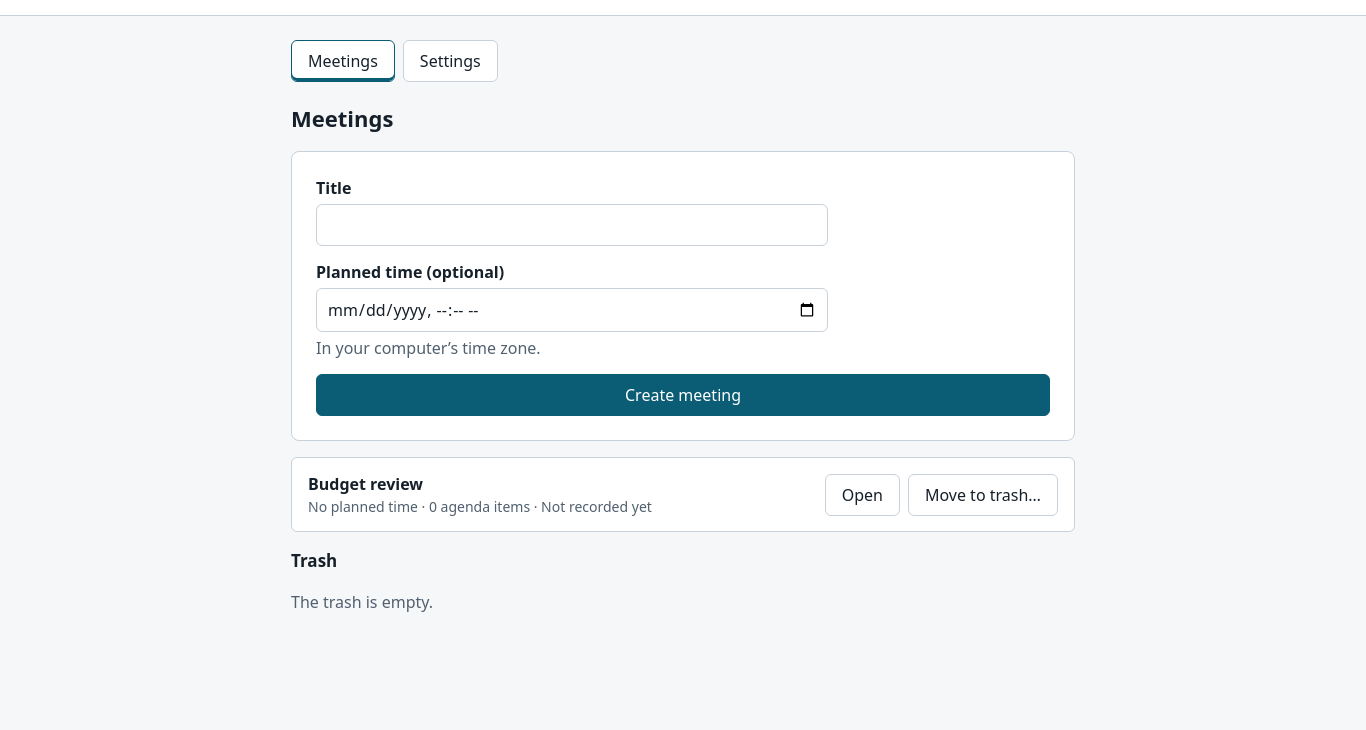
opening a meeting shows it, and leaving with unsaved text asks first
The image size is (1366, 730).
Step 1. Click the button with aria-label "Open Budget review" → (862, 494), box top-left (825, 474), bottom-right (900, 516)
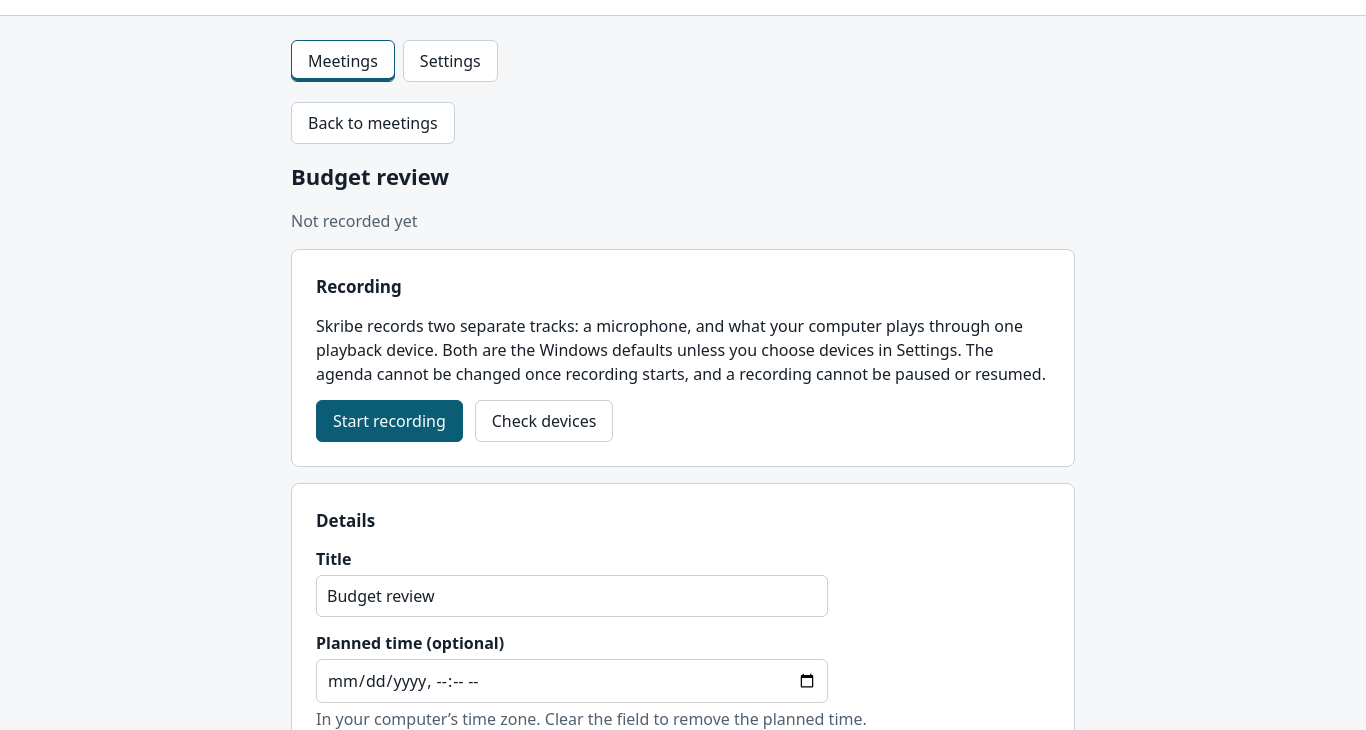
Result: the button "Start recording" is shown at top-left (316, 400), bottom-right (463, 442)
Step 2. Type " 2027" into the field labelled "Title" → (572, 596), box top-left (316, 575), bottom-right (828, 617)
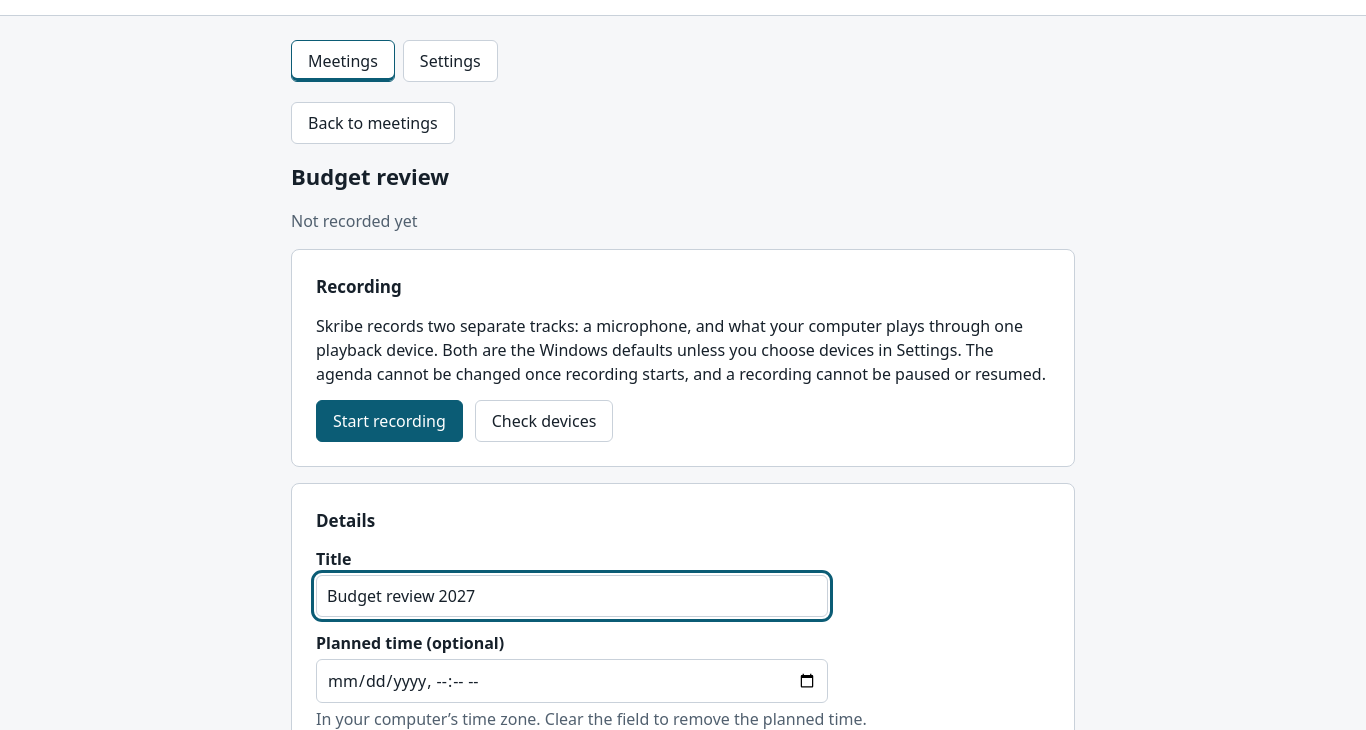
Step 3. Click the button "Back to meetings" → (373, 123), box top-left (291, 102), bottom-right (455, 144)
(page scrolled)
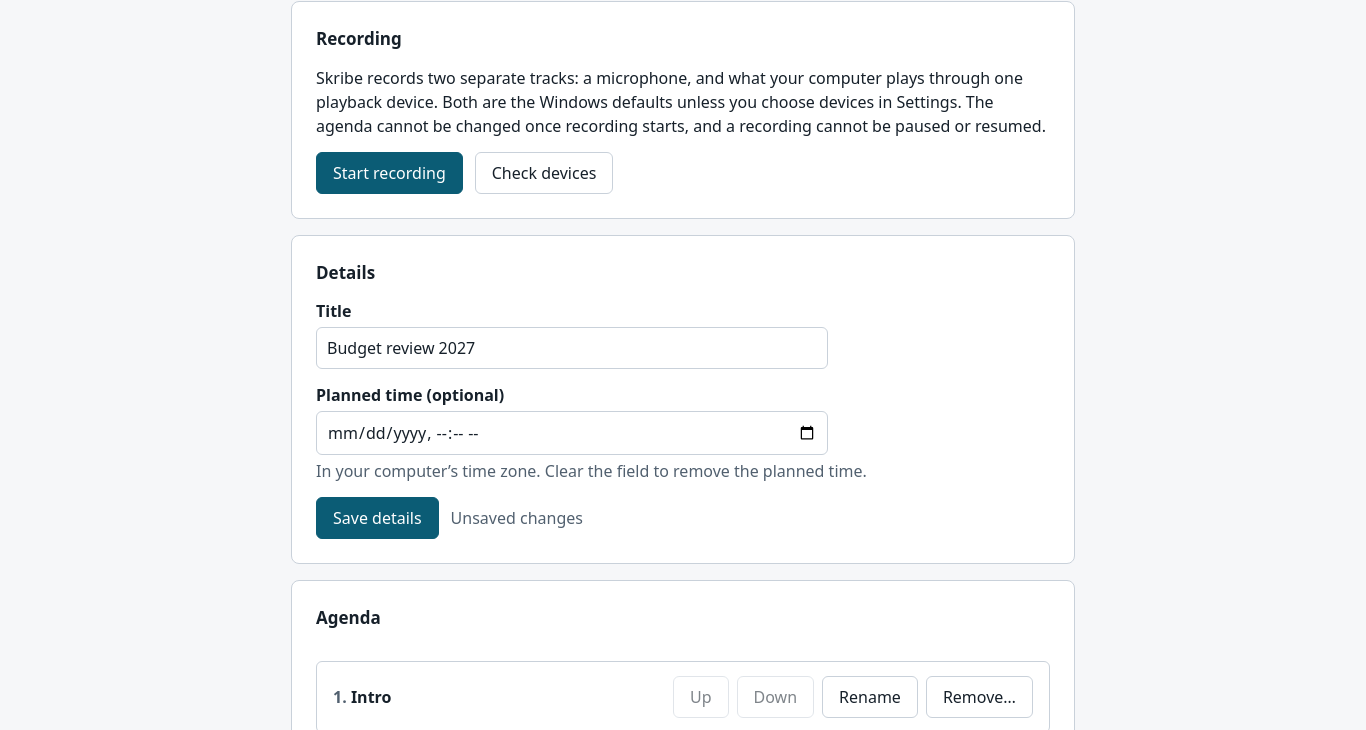
Result: the field labelled "Title" holds "Budget review 2027" at top-left (316, 327), bottom-right (828, 369)
Step 4. Press Enter
(page scrolled)
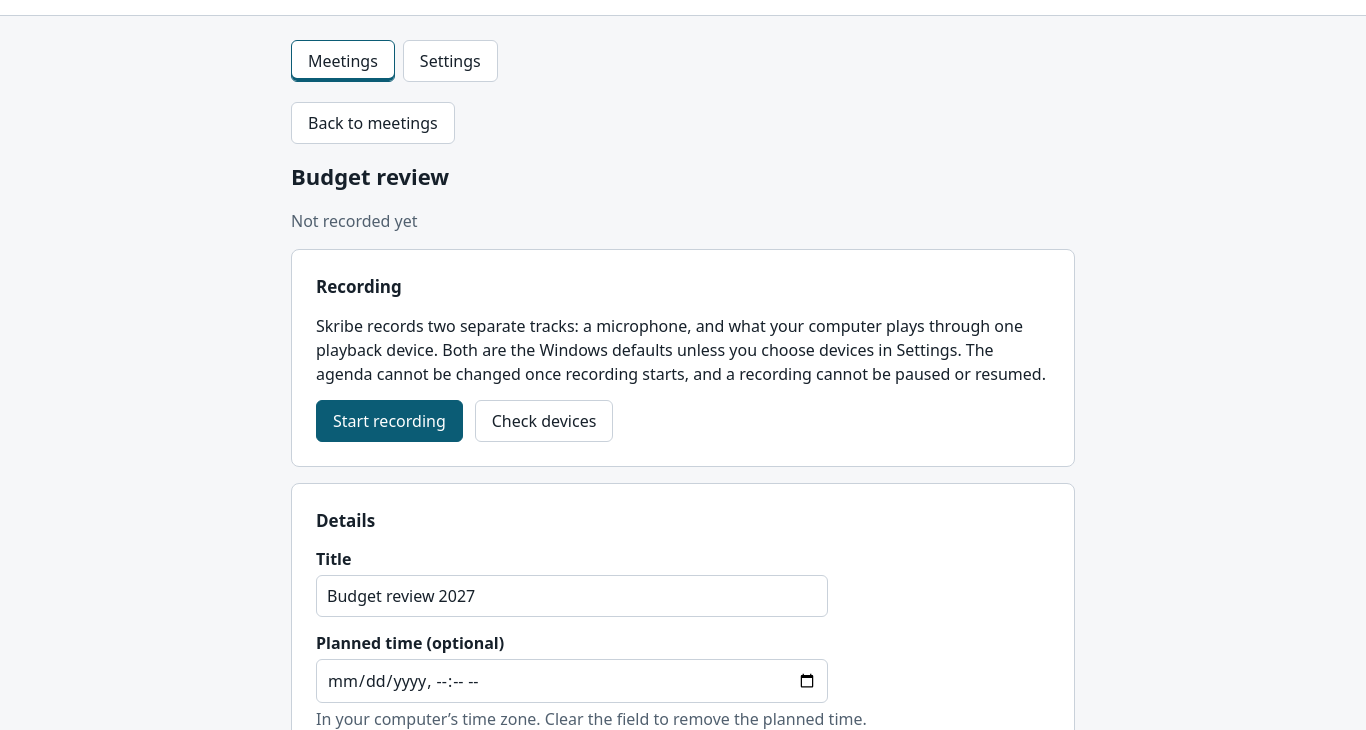
Result: the field labelled "Title" holds "Budget review 2027" at top-left (316, 575), bottom-right (828, 617)
Step 5. Click the button "Meetings" → (343, 61), box top-left (291, 40), bottom-right (395, 82)
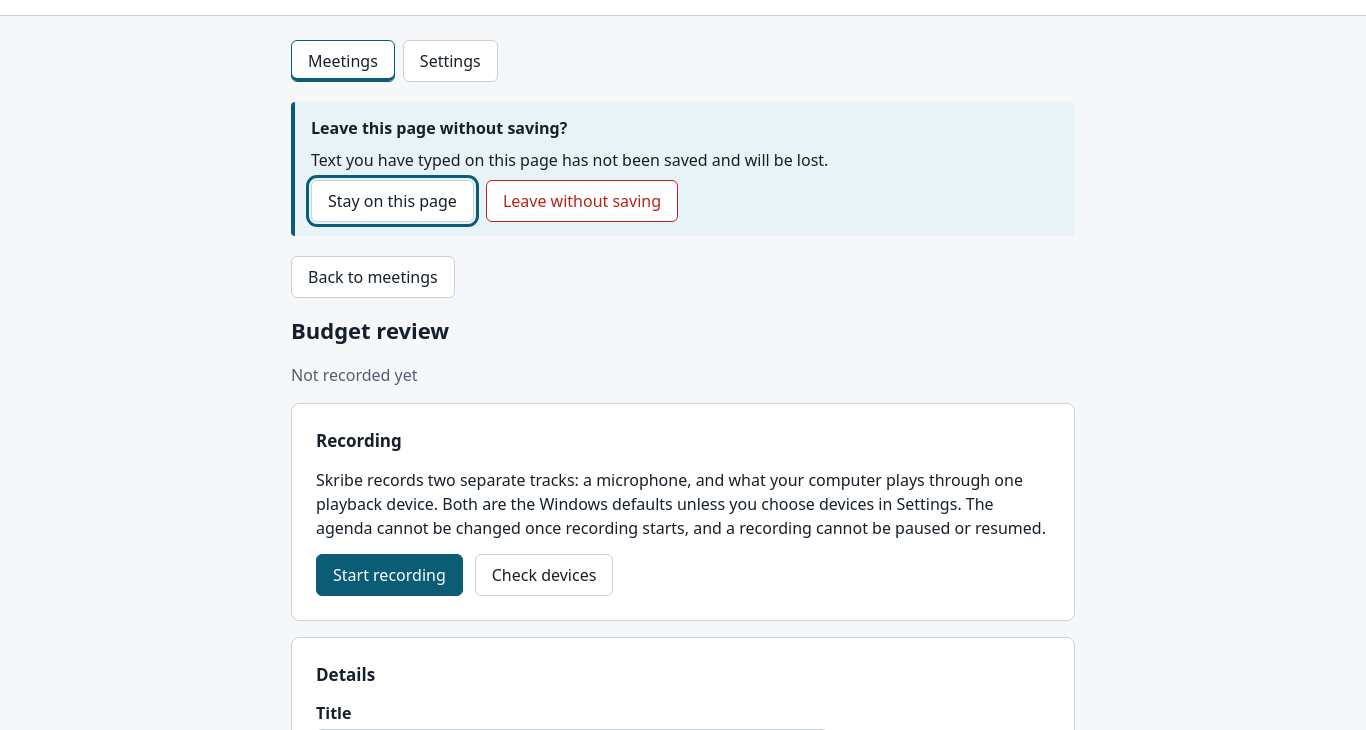
Step 6. Click the button "Leave without saving" → (582, 201), box top-left (486, 180), bottom-right (678, 222)
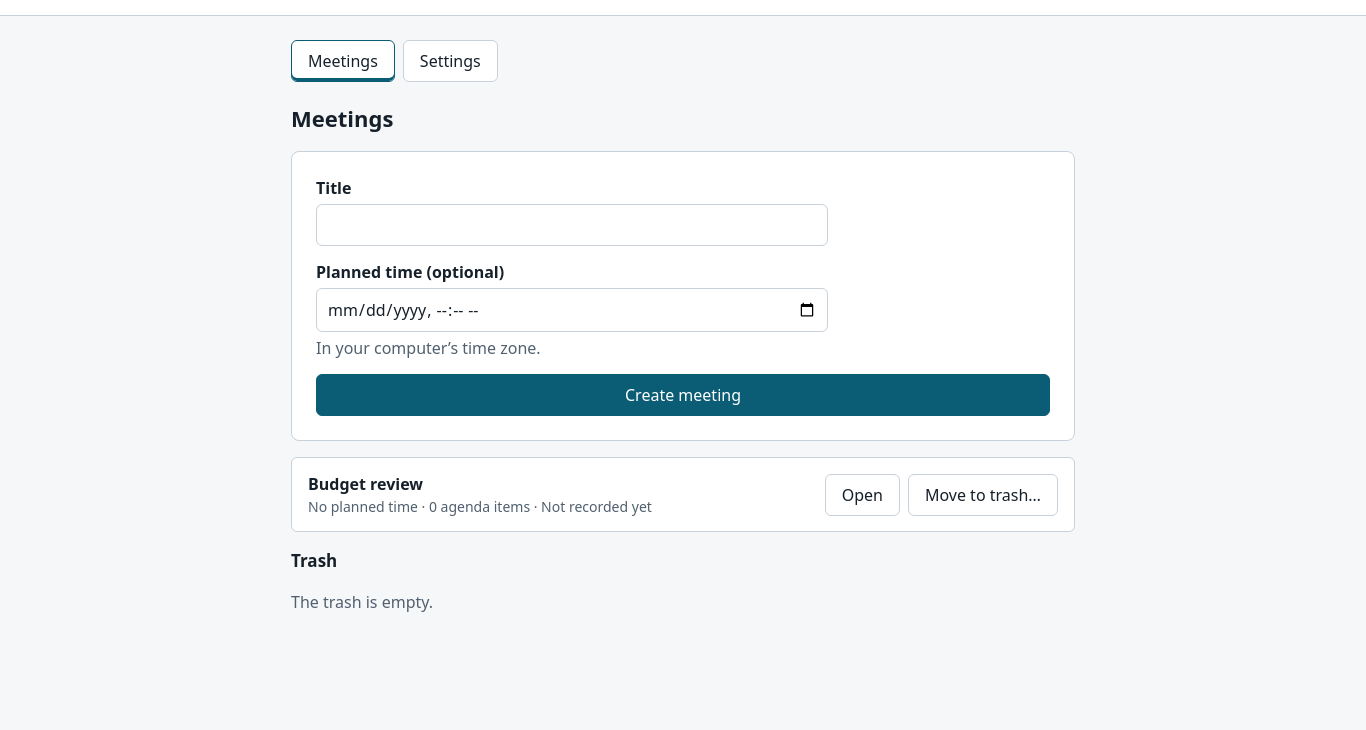
Result: the list named "Meetings" is shown at top-left (291, 457), bottom-right (1075, 532)
Result: the button "Create meeting" is shown at top-left (316, 374), bottom-right (1050, 416)
Result: the button "Back to meetings" is gone
